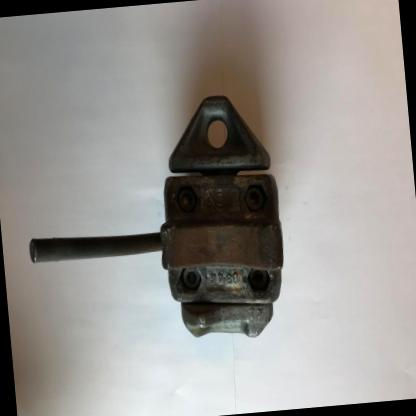Twistlock: (13, 86, 294, 360)
